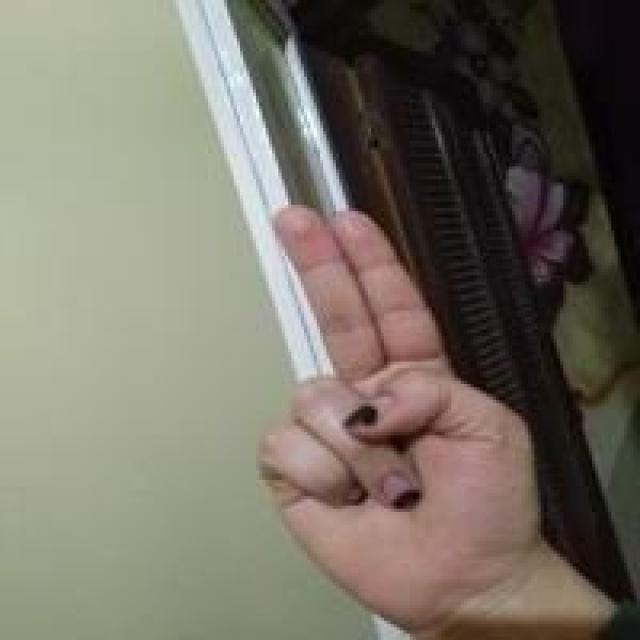U: (211, 200, 573, 616)
